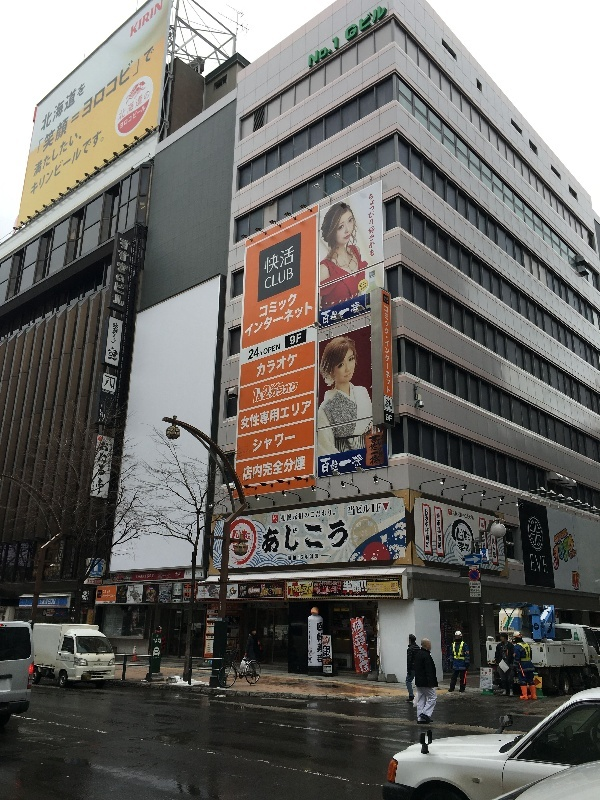text: (49, 45, 64, 154), (65, 45, 80, 154), (81, 45, 96, 154), (97, 45, 112, 154), (113, 45, 128, 154), (129, 45, 144, 154), (145, 45, 156, 154), (33, 127, 48, 197), (49, 127, 64, 197), (65, 127, 80, 197), (81, 127, 96, 197), (369, 191, 384, 258), (321, 3, 336, 69), (337, 3, 352, 69), (353, 3, 368, 69), (369, 3, 384, 69), (129, 76, 144, 137), (307, 3, 320, 69), (353, 619, 368, 676), (49, 79, 64, 131), (65, 79, 80, 131), (99, 436, 112, 495), (49, 126, 64, 177), (65, 126, 80, 177), (561, 525, 576, 576), (35, 126, 48, 177), (120, 232, 128, 311), (97, 127, 106, 197), (529, 515, 545, 553), (129, 1, 144, 41), (145, 1, 160, 41), (257, 300, 272, 340), (273, 300, 288, 340), (289, 300, 304, 340), (209, 602, 220, 655), (337, 522, 353, 556), (385, 306, 391, 395), (273, 522, 288, 556), (289, 522, 304, 556), (305, 522, 320, 556), (321, 522, 336, 556), (369, 434, 384, 468), (323, 636, 336, 673), (273, 245, 288, 275), (452, 518, 464, 555), (436, 513, 448, 550), (44, 45, 48, 154), (273, 290, 288, 319), (257, 402, 272, 431), (273, 402, 288, 431), (289, 402, 304, 431), (145, 76, 152, 137), (257, 353, 272, 381), (273, 353, 288, 381), (552, 525, 560, 576), (242, 402, 256, 431), (257, 457, 272, 484), (273, 457, 288, 484), (289, 457, 304, 484), (246, 300, 256, 340), (305, 300, 315, 340), (259, 290, 272, 319), (257, 378, 272, 403), (273, 378, 288, 403), (261, 522, 272, 556), (465, 518, 475, 555), (257, 430, 272, 454), (273, 430, 288, 454), (321, 301, 336, 325), (337, 301, 352, 325), (529, 551, 544, 575), (257, 338, 272, 361), (321, 454, 336, 477), (337, 454, 352, 477), (113, 321, 121, 363), (441, 623, 448, 671), (273, 268, 288, 290), (424, 509, 432, 550), (244, 457, 256, 484), (42, 79, 48, 131), (481, 669, 496, 689), (481, 523, 488, 565), (309, 620, 320, 646), (289, 353, 299, 381), (289, 505, 304, 523), (305, 505, 320, 523), (321, 505, 336, 523), (289, 290, 298, 319), (81, 79, 86, 131), (241, 528, 251, 554), (129, 587, 144, 604), (353, 454, 364, 477), (290, 581, 304, 599), (124, 76, 128, 137), (374, 609, 384, 633), (195, 584, 208, 602), (305, 402, 313, 431), (273, 338, 283, 361), (289, 378, 298, 403), (161, 584, 176, 599), (452, 624, 464, 642), (265, 245, 272, 275), (385, 3, 388, 69), (353, 504, 368, 517), (353, 580, 368, 593), (289, 430, 297, 454), (353, 301, 361, 325), (261, 582, 272, 599), (316, 619, 320, 665), (290, 333, 304, 346), (233, 528, 240, 554), (241, 586, 256, 598), (470, 580, 480, 597), (371, 500, 384, 513), (83, 590, 96, 603), (321, 585, 336, 596), (249, 338, 256, 361), (265, 268, 272, 290), (273, 582, 282, 599), (104, 376, 112, 395), (289, 245, 294, 275), (280, 505, 288, 523), (453, 509, 464, 522), (386, 413, 400, 423), (369, 583, 384, 592), (89, 557, 96, 576), (97, 557, 104, 576), (465, 509, 475, 522), (230, 585, 240, 598), (305, 581, 312, 599), (185, 584, 192, 602), (501, 621, 512, 632), (113, 575, 128, 583), (289, 554, 304, 562), (273, 516, 288, 524), (343, 580, 352, 593), (385, 583, 398, 592), (305, 554, 319, 562), (386, 398, 400, 406), (289, 268, 294, 290), (209, 587, 221, 596), (81, 126, 83, 177), (545, 551, 549, 575), (492, 536, 496, 560), (321, 619, 323, 665), (227, 603, 240, 610), (572, 570, 576, 591), (577, 570, 581, 591), (199, 587, 208, 596), (161, 1, 163, 41), (360, 280, 368, 290), (193, 569, 203, 577), (129, 232, 130, 311), (99, 592, 112, 598), (145, 574, 156, 581), (313, 585, 320, 596), (253, 430, 256, 454), (31, 127, 32, 197), (386, 404, 400, 409), (61, 541, 64, 564), (337, 585, 343, 596), (87, 578, 96, 585), (135, 574, 144, 581), (150, 598, 160, 604), (84, 675, 96, 680), (351, 619, 352, 676), (369, 619, 370, 676), (249, 587, 256, 595), (50, 611, 64, 615), (39, 599, 48, 605), (348, 504, 352, 517), (577, 525, 578, 576), (254, 378, 256, 403), (186, 569, 192, 577), (260, 603, 272, 607), (103, 590, 112, 595), (49, 599, 56, 605), (153, 638, 160, 644), (220, 601, 224, 611), (113, 376, 115, 395), (527, 515, 528, 553), (516, 680, 528, 683), (103, 595, 112, 599), (385, 434, 386, 468), (97, 578, 101, 585), (177, 572, 181, 579), (305, 457, 306, 484), (369, 504, 371, 517), (257, 587, 260, 595), (129, 575, 132, 583), (251, 603, 256, 607), (337, 505, 338, 523), (177, 588, 183, 591), (504, 628, 512, 630), (385, 296, 388, 301), (97, 664, 103, 666), (365, 624, 368, 627), (157, 635, 160, 638), (113, 595, 115, 599), (175, 572, 176, 579), (369, 624, 371, 627), (510, 628, 512, 631), (174, 588, 176, 591), (175, 600, 176, 603), (95, 664, 96, 666)
